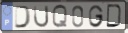0: (72, 5, 85, 29)
D: (14, 5, 32, 29), (106, 4, 123, 29)
G: (88, 4, 105, 28)
Q: (52, 4, 69, 29)
U: (33, 4, 50, 29)
